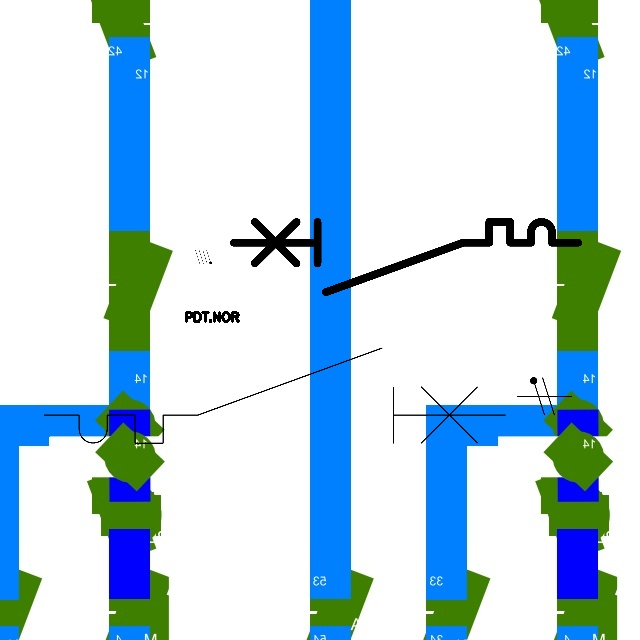interruptor_termomagnetico: (32, 336, 517, 455), (224, 213, 586, 301)
